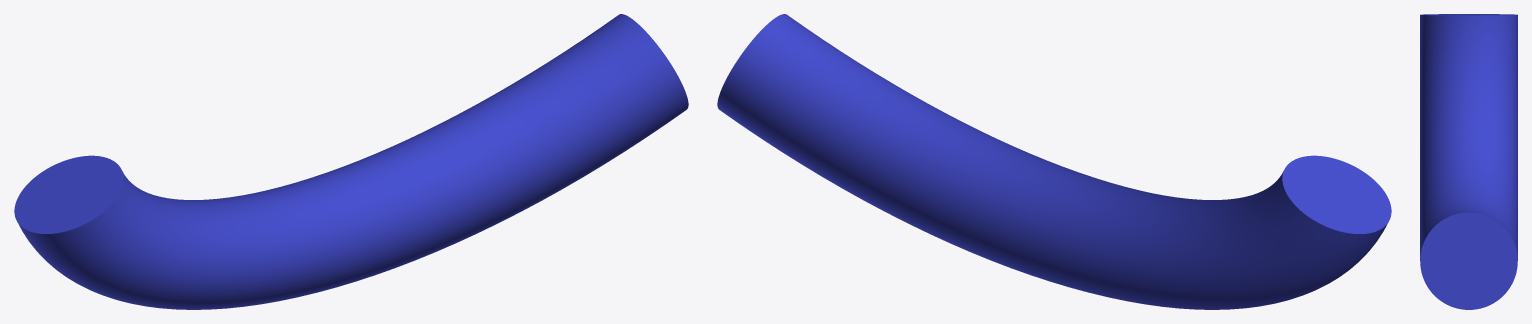
File: bottom_body_mesh.fbx
The picture shows the model from 3 angles, left to right: view 1: azimuth 30°, elevation 25°; view 2: azimuth 150°, elevation 25°; view 3: azimuth 270°, elevation 25°; orthographic projection. The views are drawn at different scales.
Parts seen in each view (by area): view 1: root; view 2: root; view 3: root.
Part boxes in pixels (bbox=[...]): root: bbox=[14, 14, 688, 309]; root: bbox=[717, 14, 1391, 309]; root: bbox=[1420, 14, 1517, 309].
Bounding box in the file's own units: 1.16 × 0.3216 × 0.1797.
